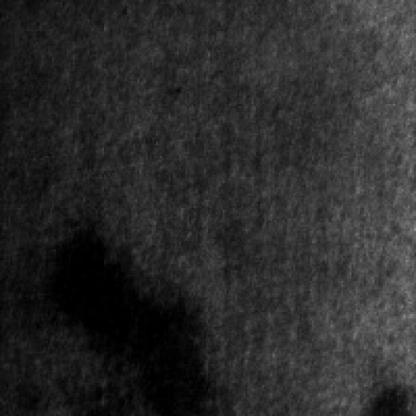patches: (44, 225, 208, 405)
